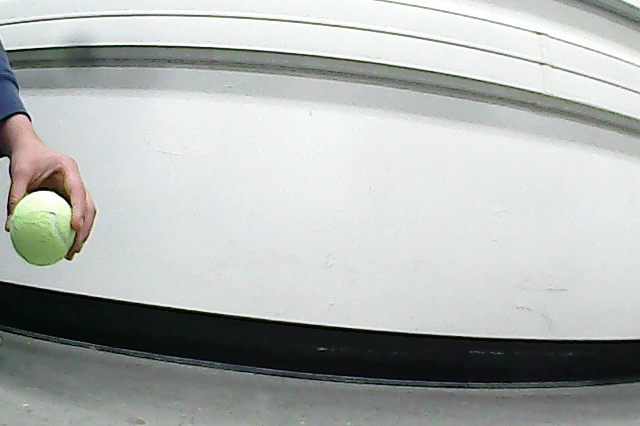ball: (11, 192, 77, 266)
